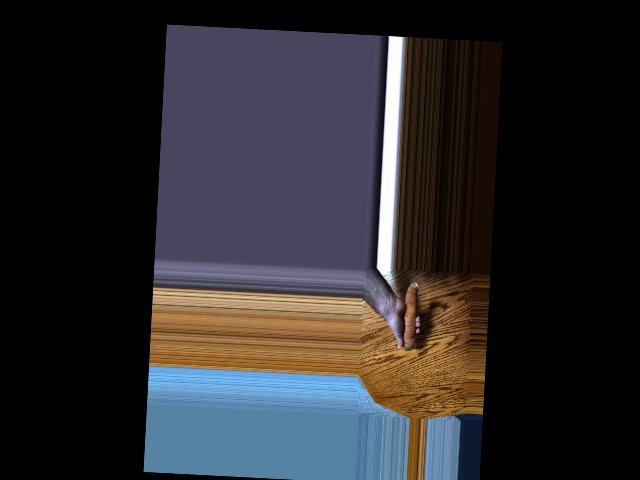sweet_potato: (394, 280, 419, 352)
